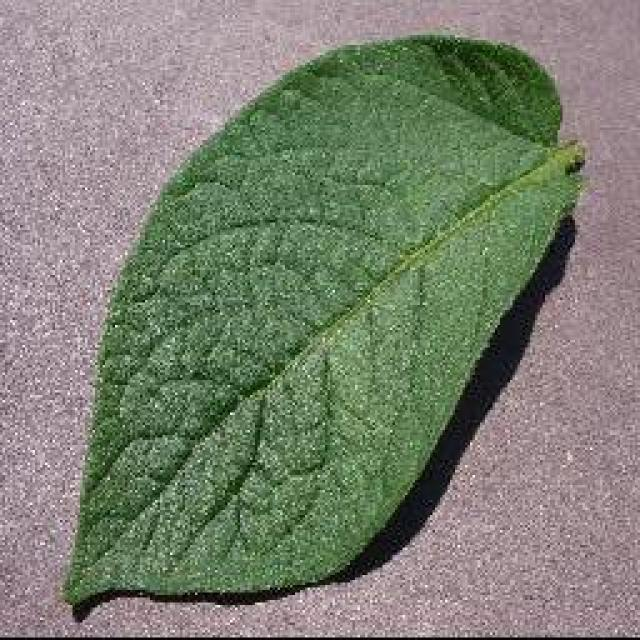Potato___healthy: (55, 31, 590, 612)
